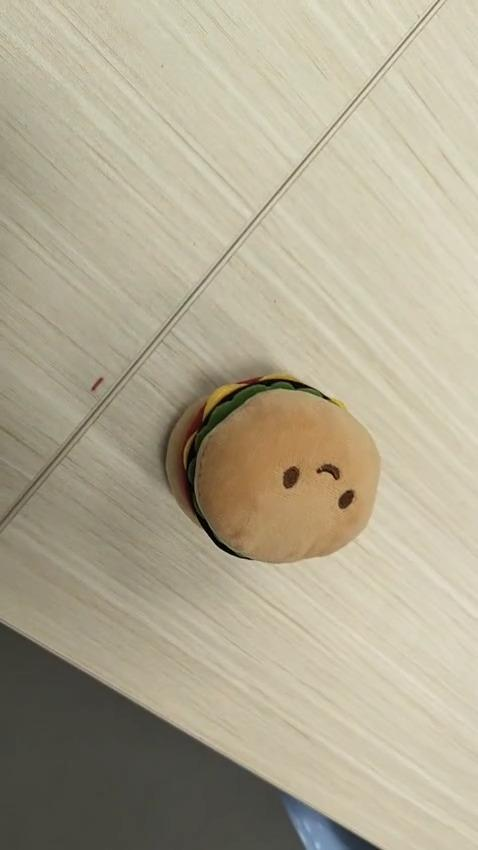hamburger: (164, 371, 381, 564)
